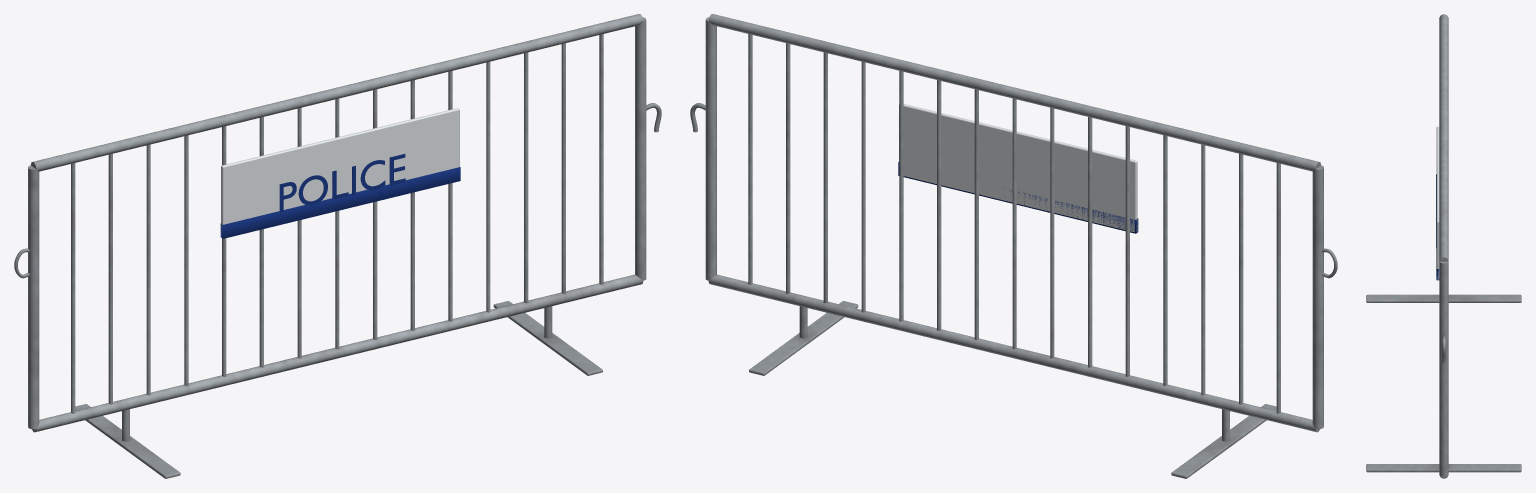
Rendered from bariera_policyjna.glb.
The picture shows the model from 3 angles, left to right: view 1: azimuth 30°, elevation 25°; view 2: azimuth 150°, elevation 25°; view 3: azimuth 270°, elevation 25°; orthographic projection. The views are drawn at different scales.
Visible parts, largest first — view 1: Bariera, Tablica; view 2: Bariera, Tablica; view 3: Bariera, Tablica.
Part boxes in pixels (<box>): Bariera: <box>14,14,661,478</box>; Tablica: <box>220,108,460,238</box>; Bariera: <box>690,14,1337,478</box>; Tablica: <box>898,104,1138,233</box>; Bariera: <box>1366,14,1521,478</box>; Tablica: <box>1436,126,1439,280</box>.
Size of the model in its own units: 2.45 by 1.1 by 0.62.
3 materials, 1 textured.
